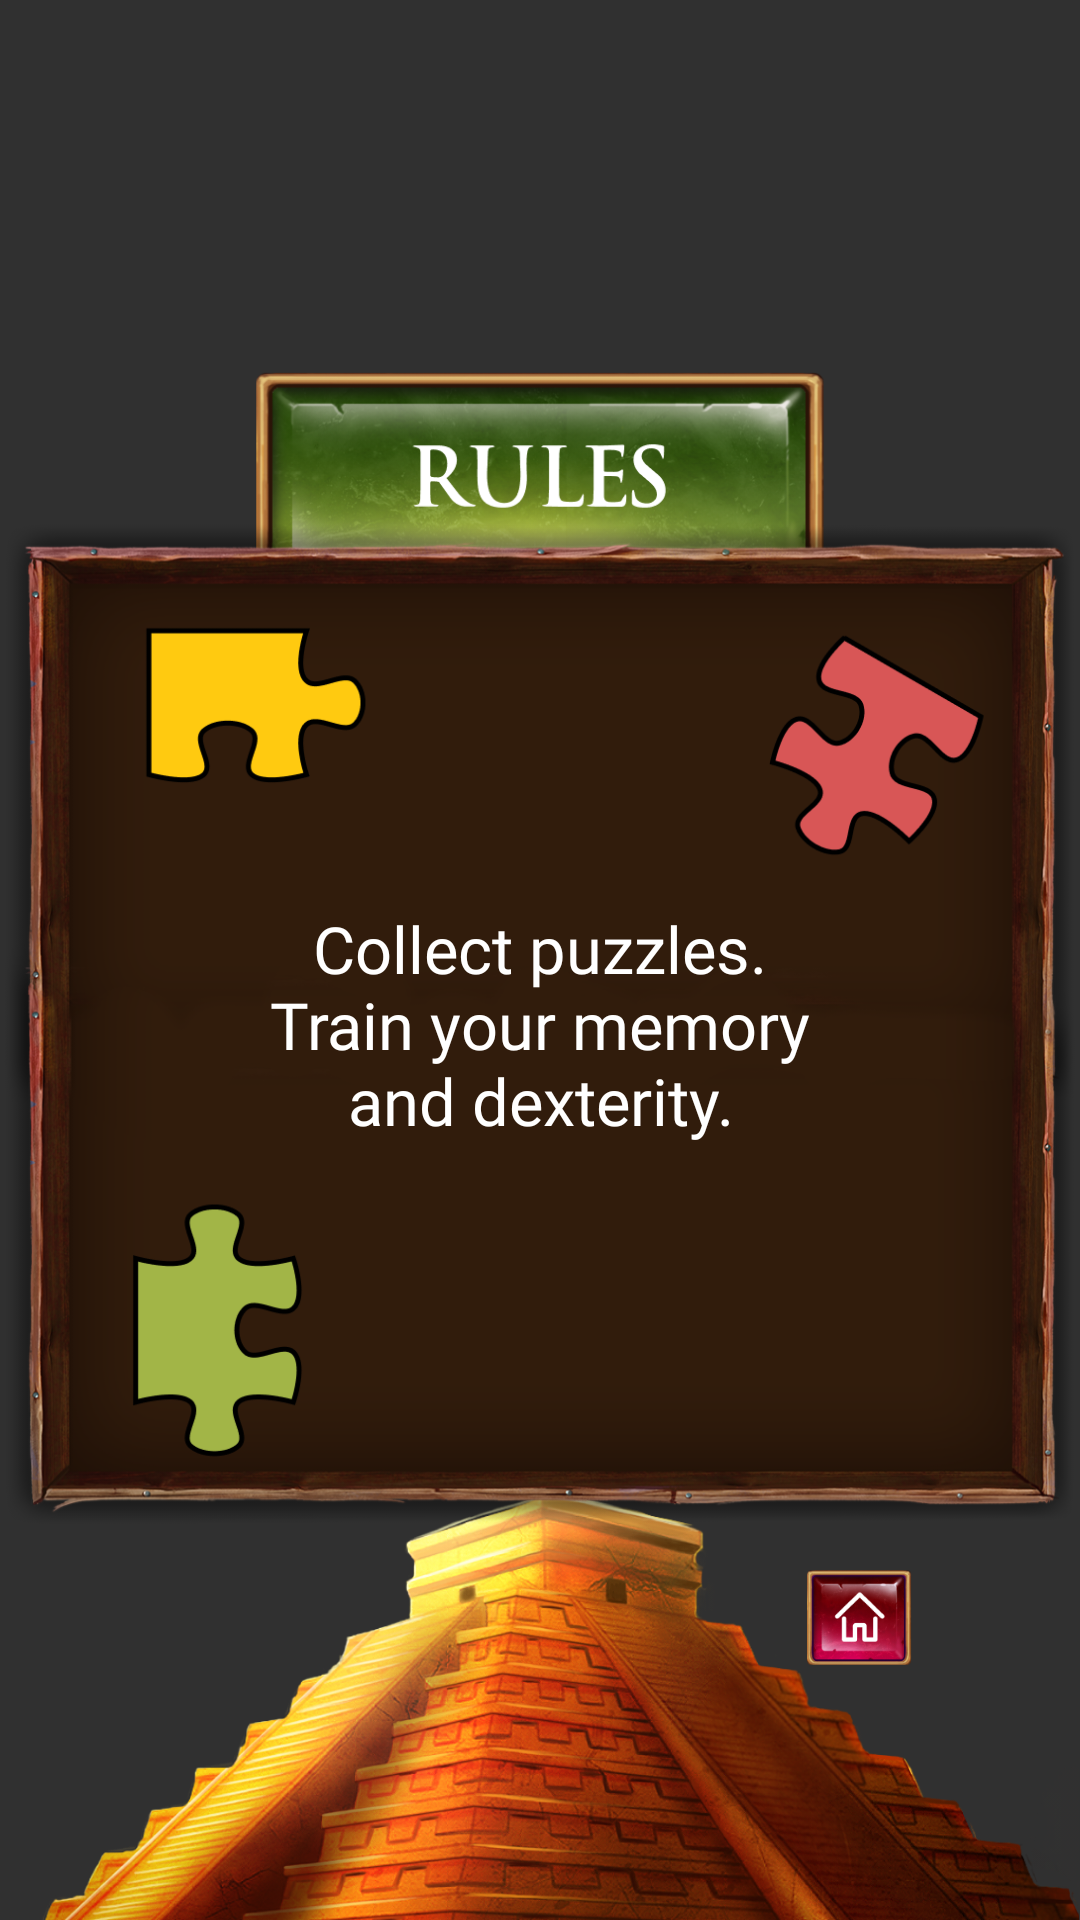

Locate icon controls on the screen. Image size 1080×1920, boxes as (x1, y1, x2, y2).
home: (807, 1570, 911, 1665)
